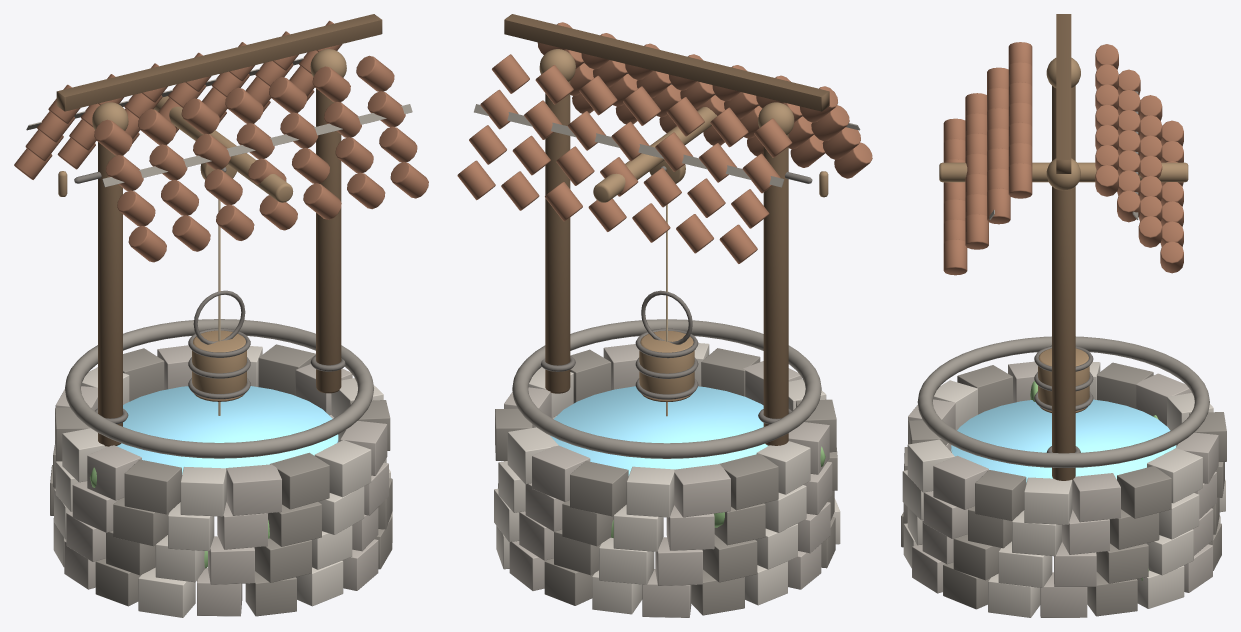
File: well_v2.glb
3 views of the same model, side by side, from view 1: azimuth 30°, elevation 25°; view 2: azimuth 150°, elevation 25°; view 3: azimuth 270°, elevation 25° (orthographic). The views are drawn at different scales.
Parts seen in each view (by area): view 1: well_v2; view 2: well_v2; view 3: well_v2.
Part boxes in pixels (left/top/right/bottom): well_v2: left=14, top=14, right=428, bottom=617; well_v2: left=457, top=14, right=872, bottom=617; well_v2: left=901, top=14, right=1226, bottom=617.
Bounding box in the file's own units: 1.61 × 2.36 × 1.5.
